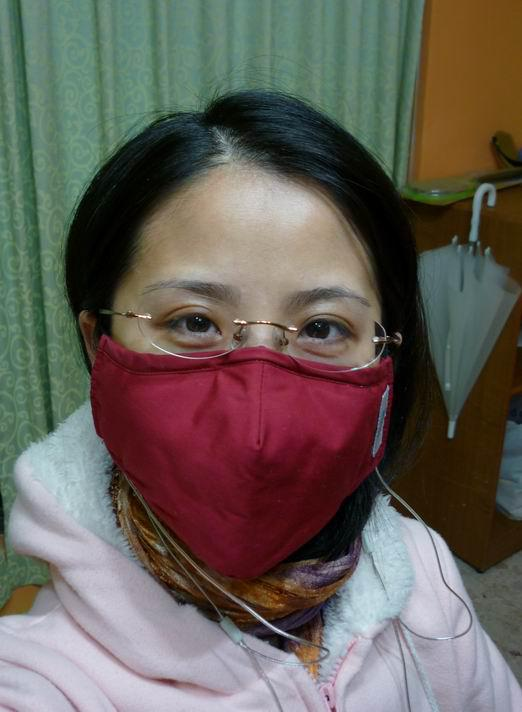OK: (106, 272, 390, 569)
